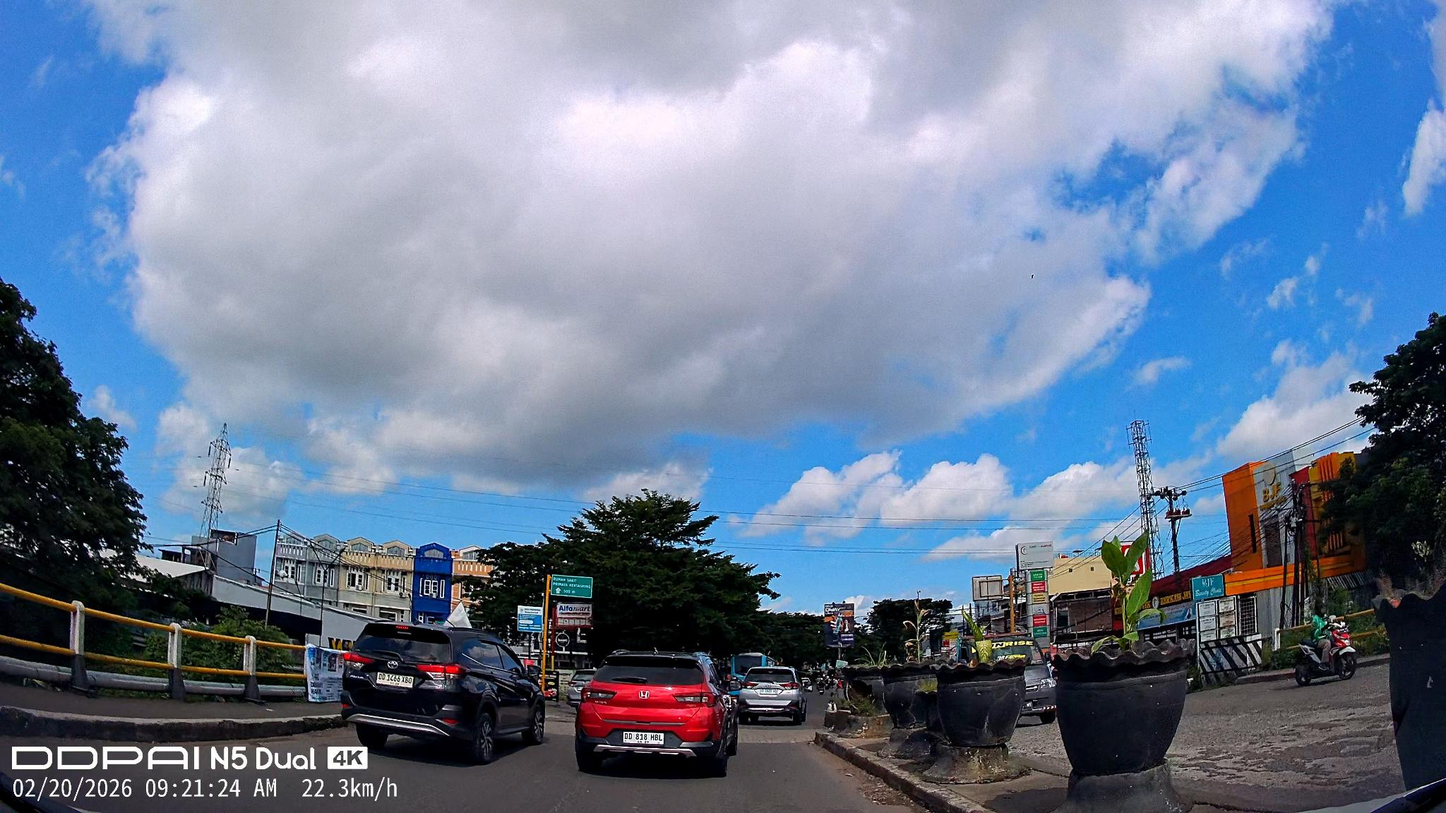rambu_teks: (551, 575, 593, 598)
